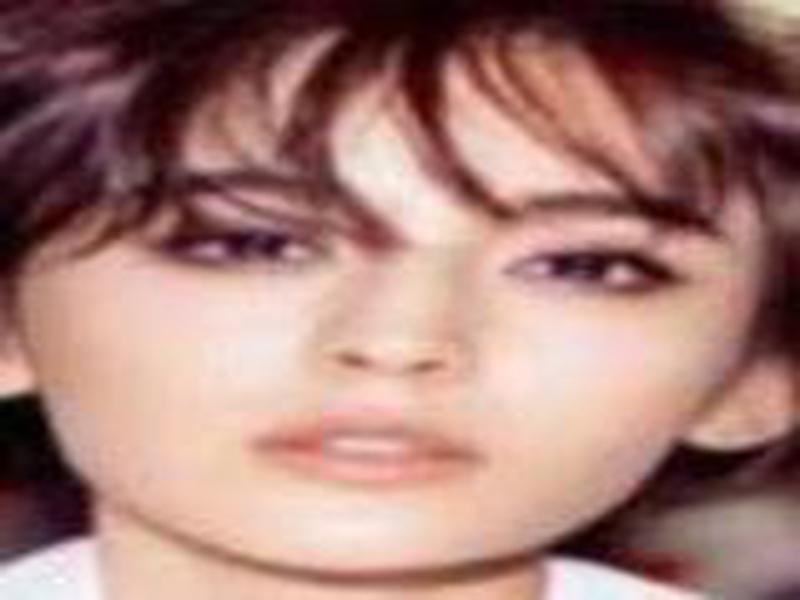without_mask: (21, 50, 766, 580)
